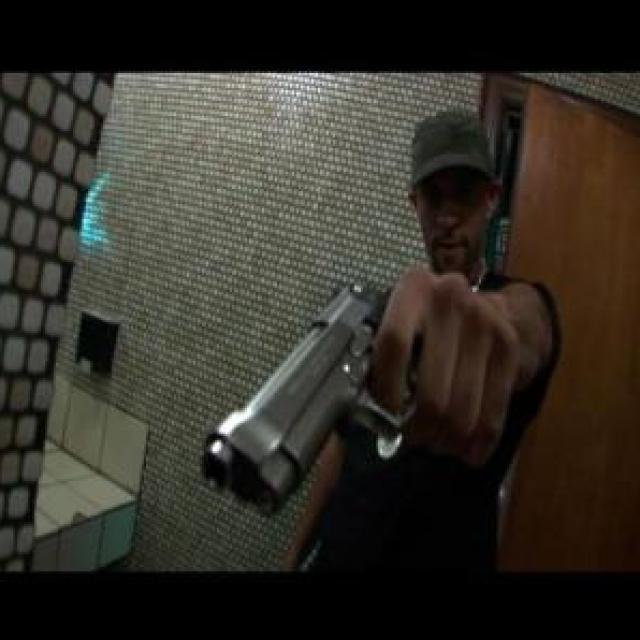pistol: (198, 277, 502, 505)
